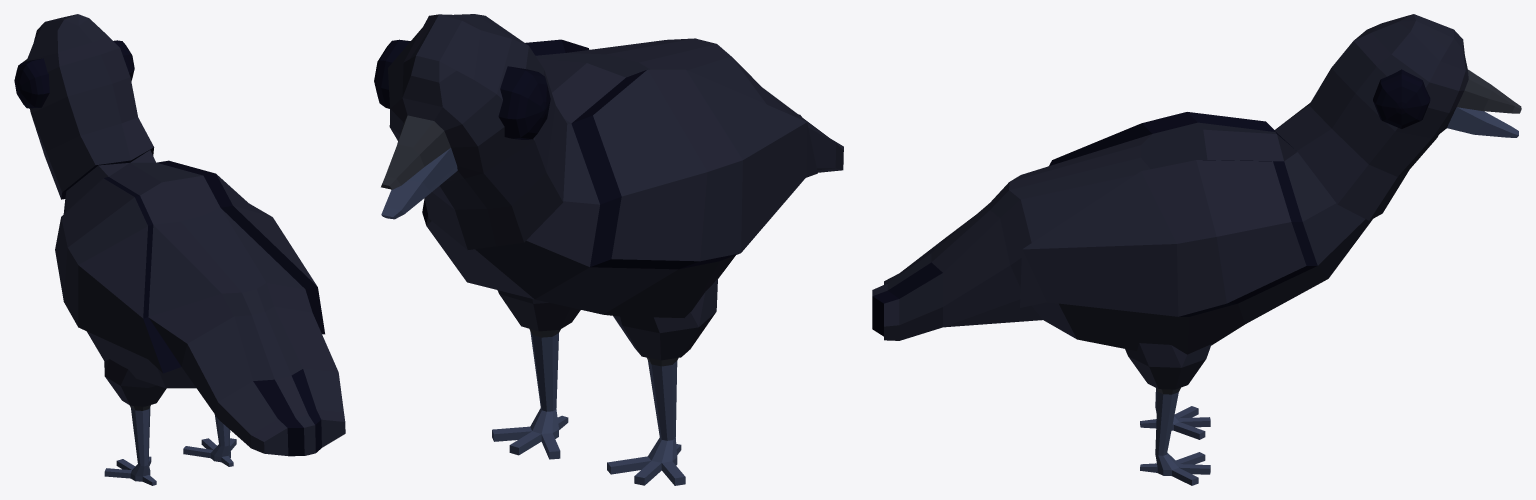
File: NPC_PainterCrow.fbx
3 views of the same model, side by side, from view 1: azimuth 30°, elevation 25°; view 2: azimuth 150°, elevation 25°; view 3: azimuth 270°, elevation 25° (orthographic). The views are drawn at different scales.
Parts seen in each view (by area): view 1: Cylinder.216; view 2: Cylinder.216; view 3: Cylinder.216.
Part boxes in pixels (<box>): Cylinder.216: <box>14,14,345,485</box>; Cylinder.216: <box>374,14,843,485</box>; Cylinder.216: <box>872,14,1521,485</box>.
Bounding box in the file's own units: 23.26 × 42.63 × 58.2.
